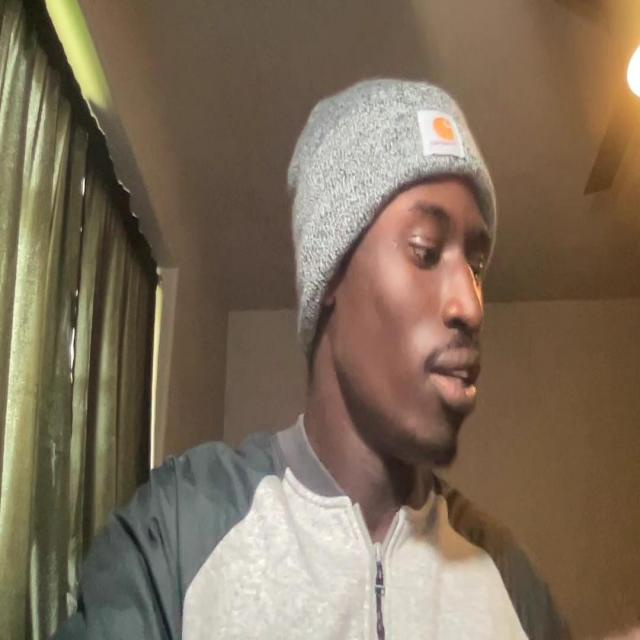face: (325, 130, 499, 474)
